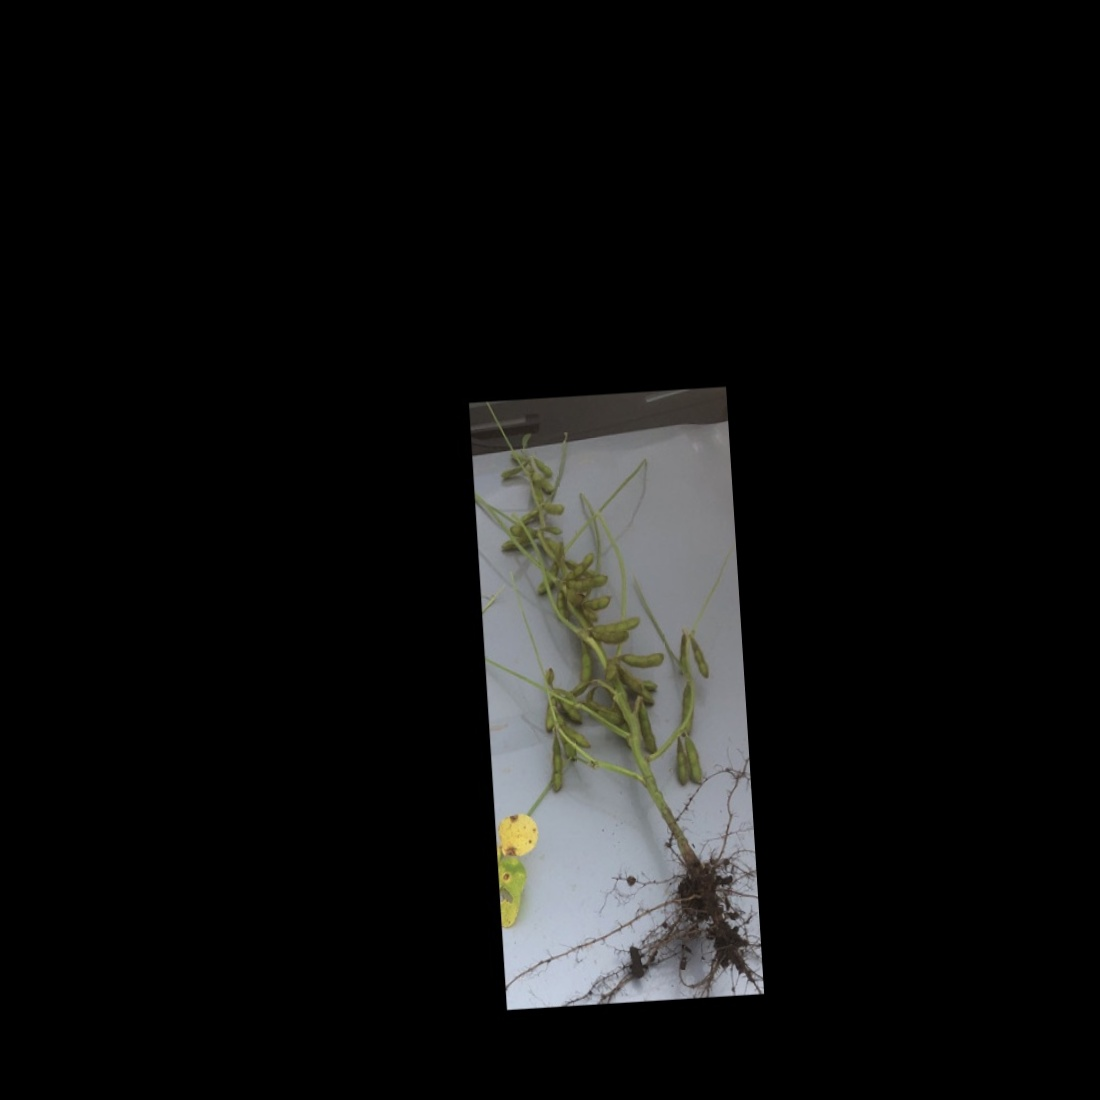pod: (636, 701, 661, 755), (690, 635, 716, 685), (683, 732, 707, 786), (618, 646, 666, 672), (546, 737, 566, 794), (672, 734, 688, 788), (574, 636, 591, 682), (540, 497, 567, 518), (534, 454, 555, 479), (580, 595, 613, 610), (539, 520, 562, 535)
soy: (486, 416, 739, 981)
